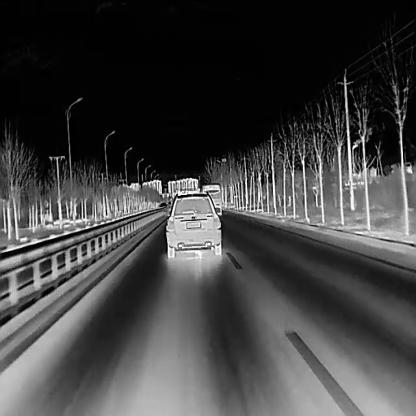bus: (200, 182, 221, 217)
car: (165, 190, 221, 258)
